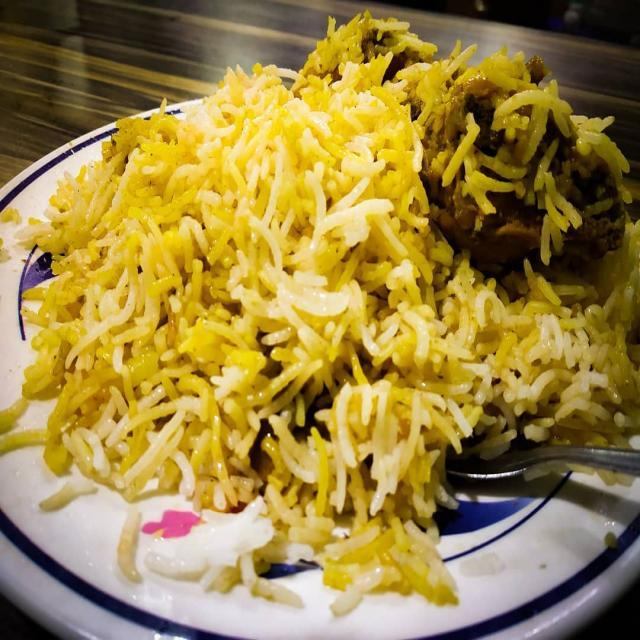biryani: (29, 41, 640, 640)
